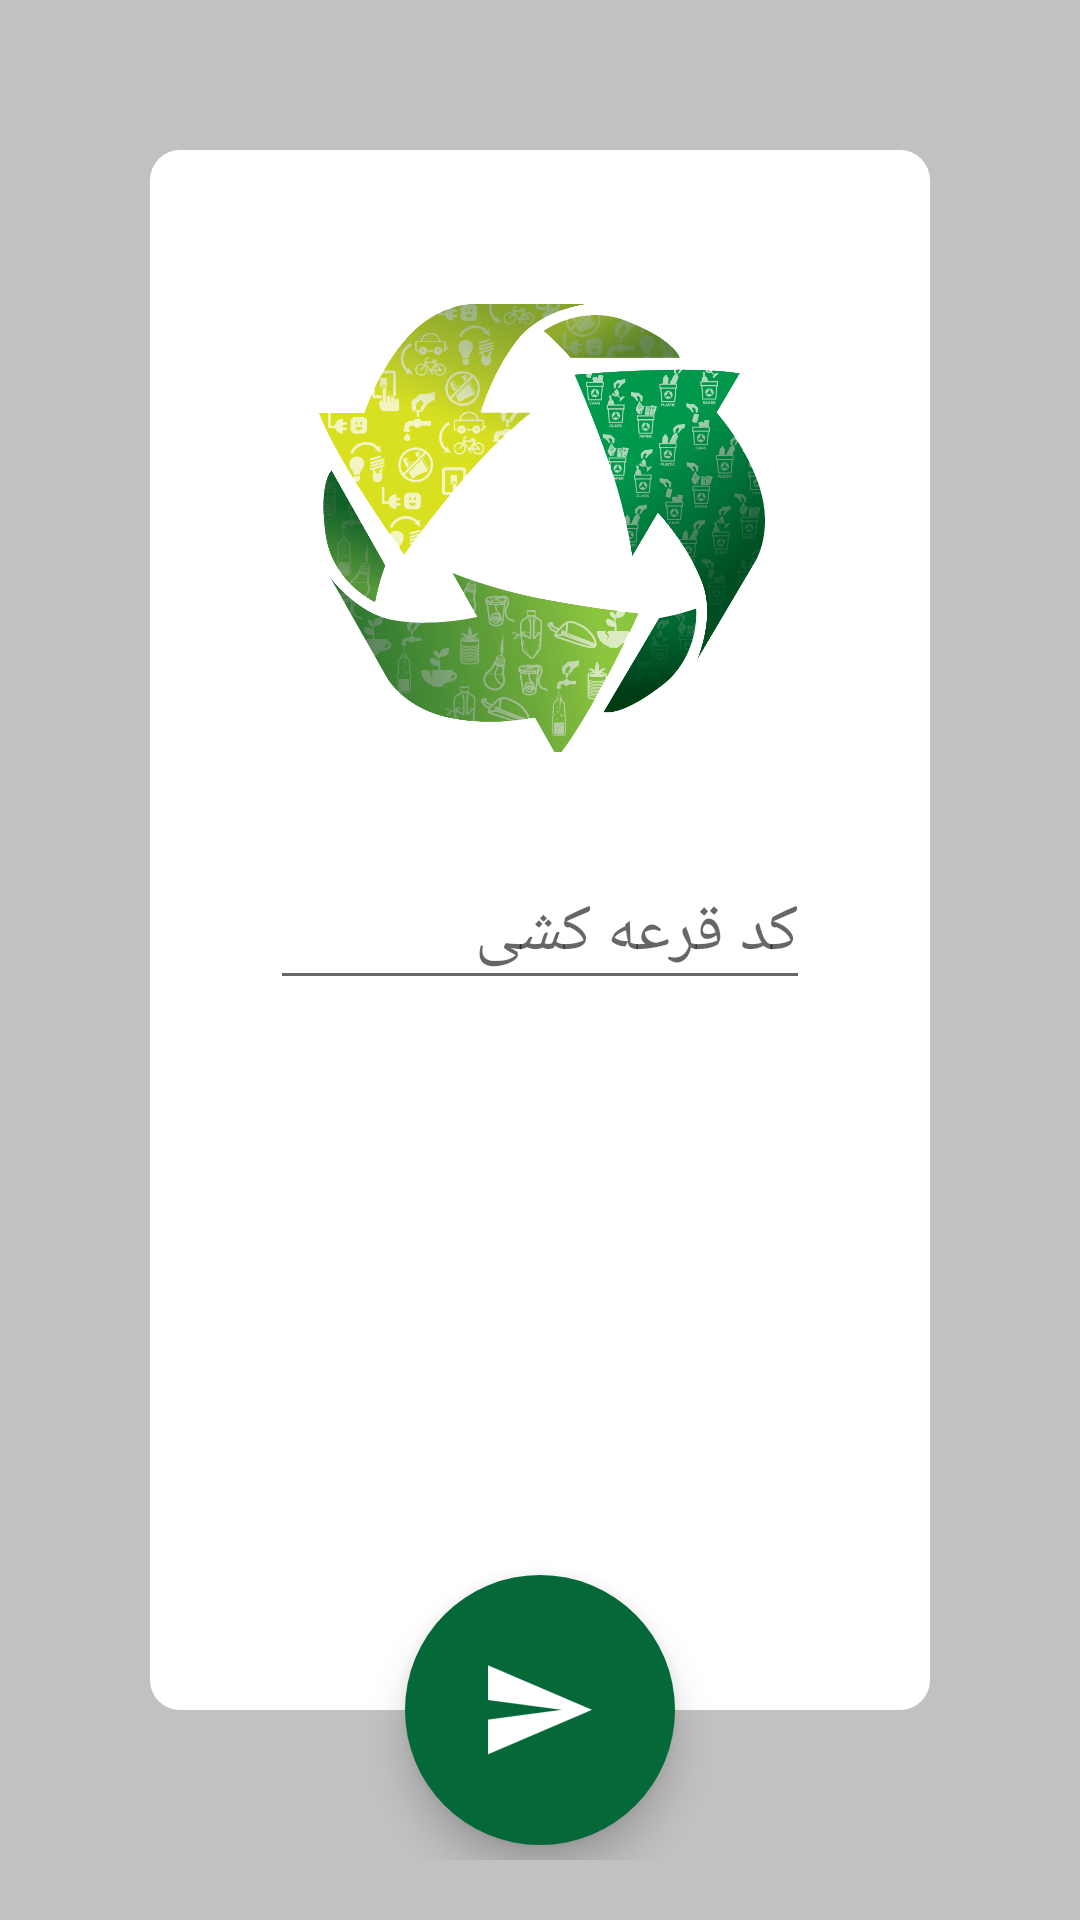

Where to tap for icons on this 1080 x 1920 app screen, as (x=x, y=y):
send: (x=540, y=1710)
